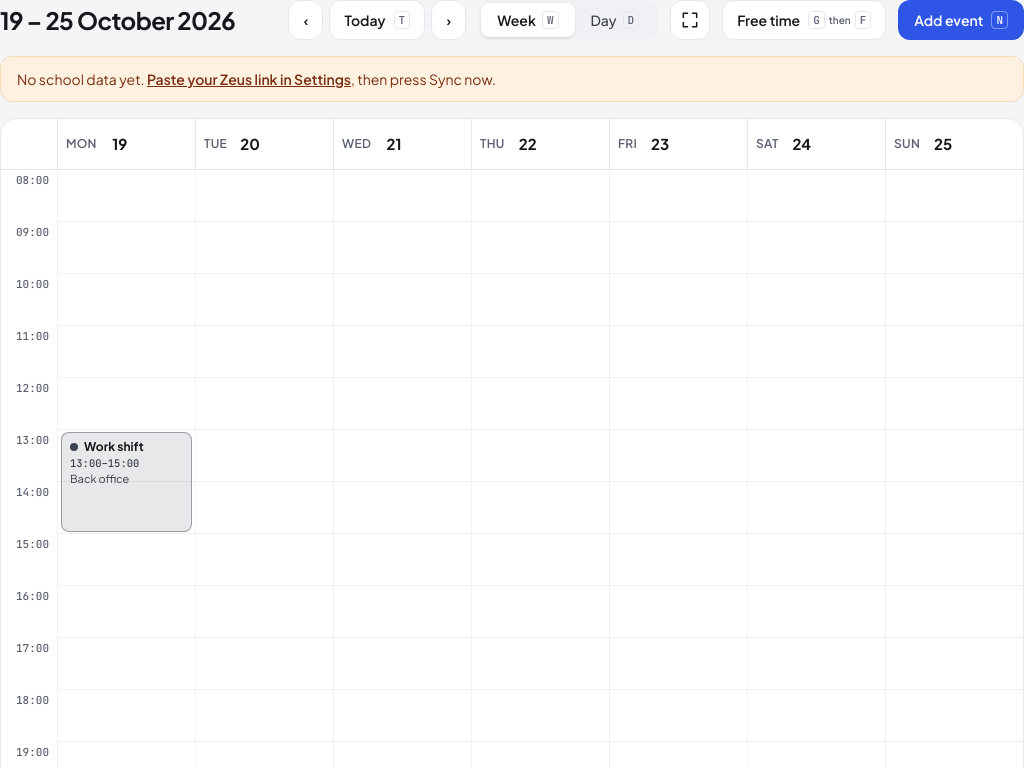
Test: CalendarPage popups › clicking an event opens the panel
Step 1. Click the button named "Open Work shift" → (126,482), box [62,433,191,531]
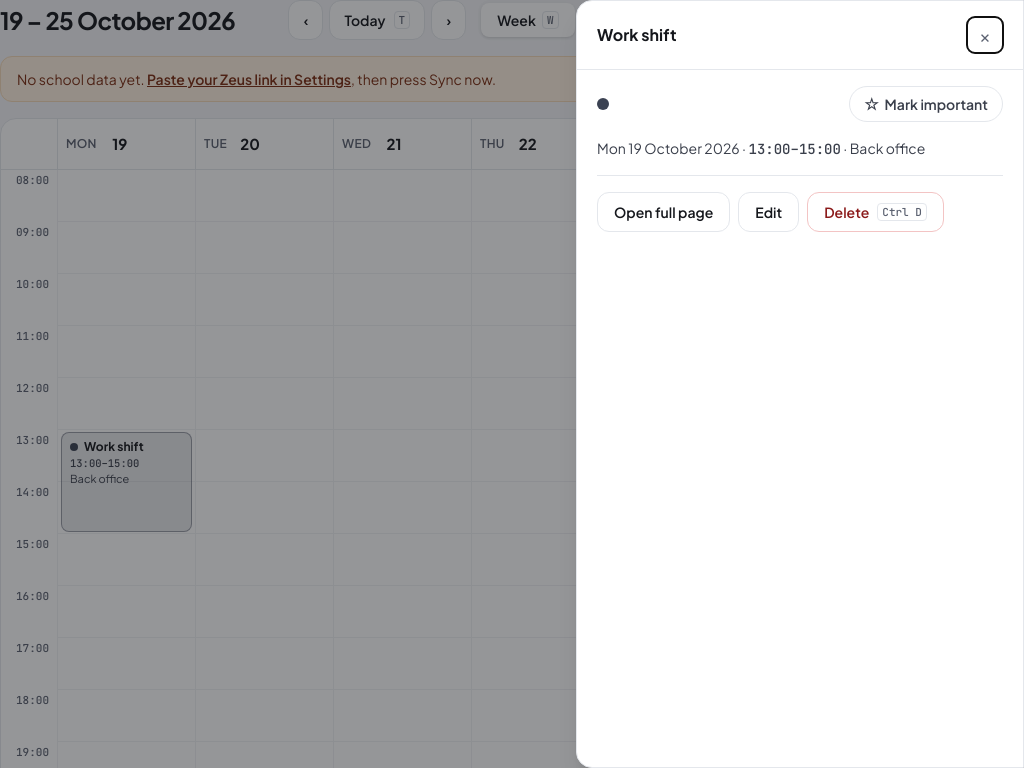
Result: the dialog "Work shift" shows "Back office" at [841,139,925,157]
Result: the dialog "Work shift" shows "19 October 2026" at [628,139,740,157]
